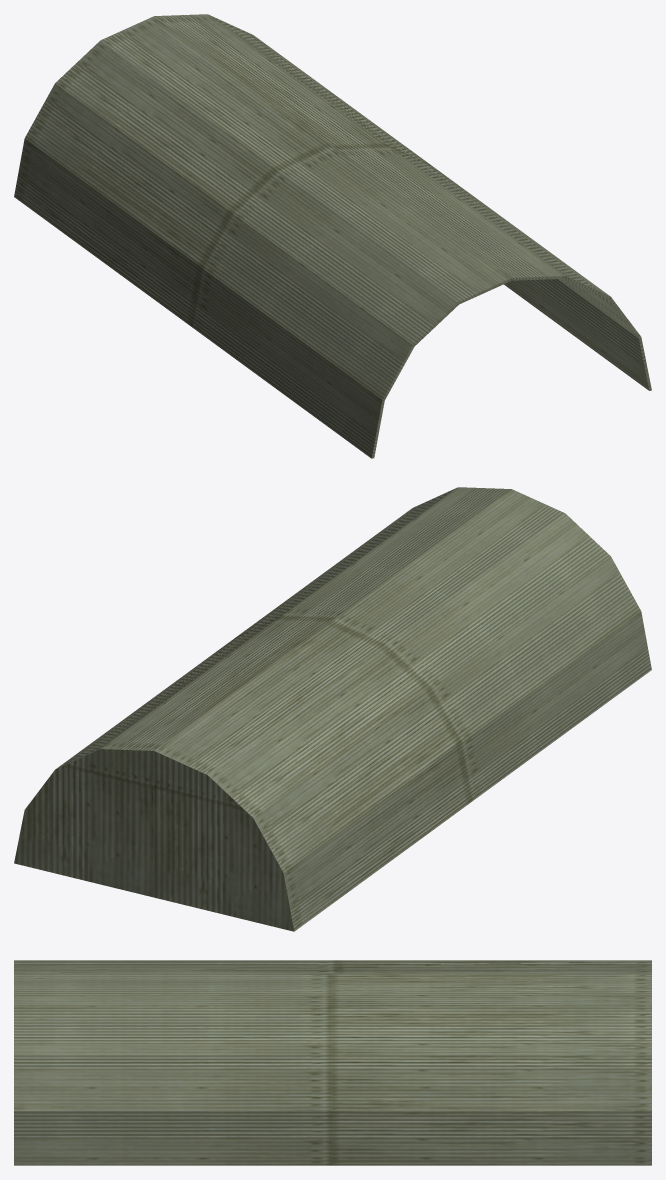
Rendered from FredesPOI.fbx.
3 renders of one model, top to bottom at view 1: azimuth 30°, elevation 25°; view 2: azimuth 150°, elevation 25°; view 3: azimuth 270°, elevation 25°, orthographic. The views are drawn at different scales.
Visible parts, largest first — view 1: HangarRoof, HangarFuckDaFog; view 2: HangarRoof; view 3: HangarRoof.
Part boxes in pixels (x1,y1,x2,y2): HangarRoof: (14, 14, 651, 458); HangarFuckDaFog: (504, 279, 649, 390); HangarRoof: (14, 487, 651, 931); HangarRoof: (14, 960, 651, 1165).
Size of the model in its own units: 3116 by 1590 by 6887.
